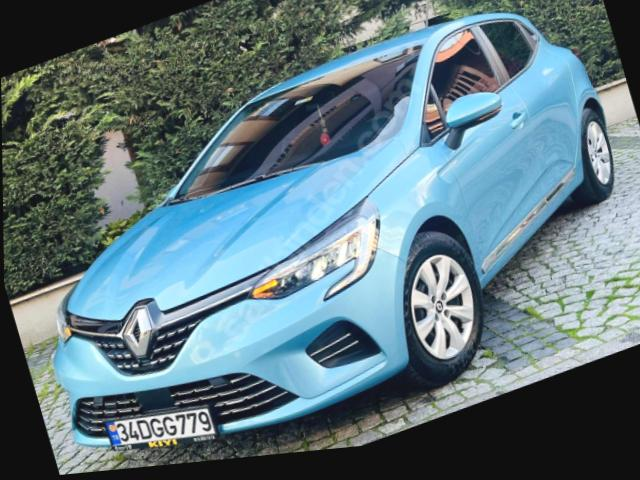plaka: (108, 407, 217, 445)
